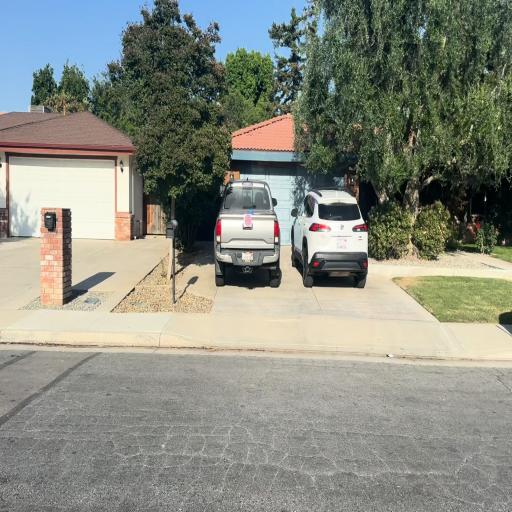bullseye: (244, 214, 252, 227)
